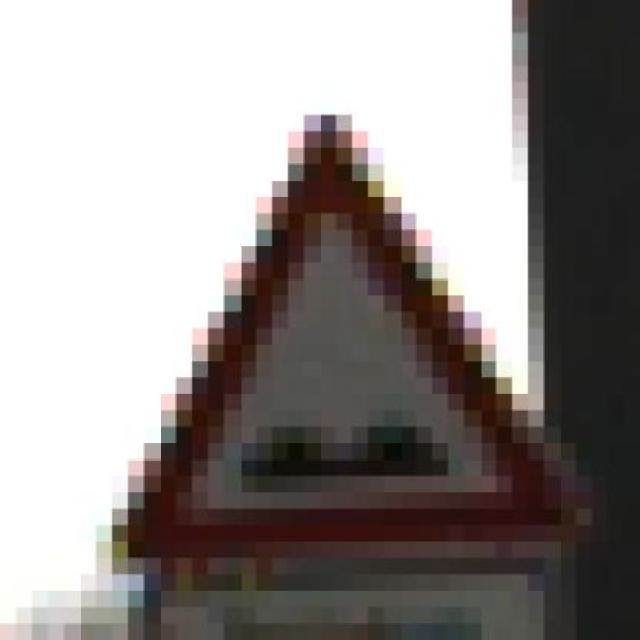Uneven Road: (80, 82, 592, 575)
